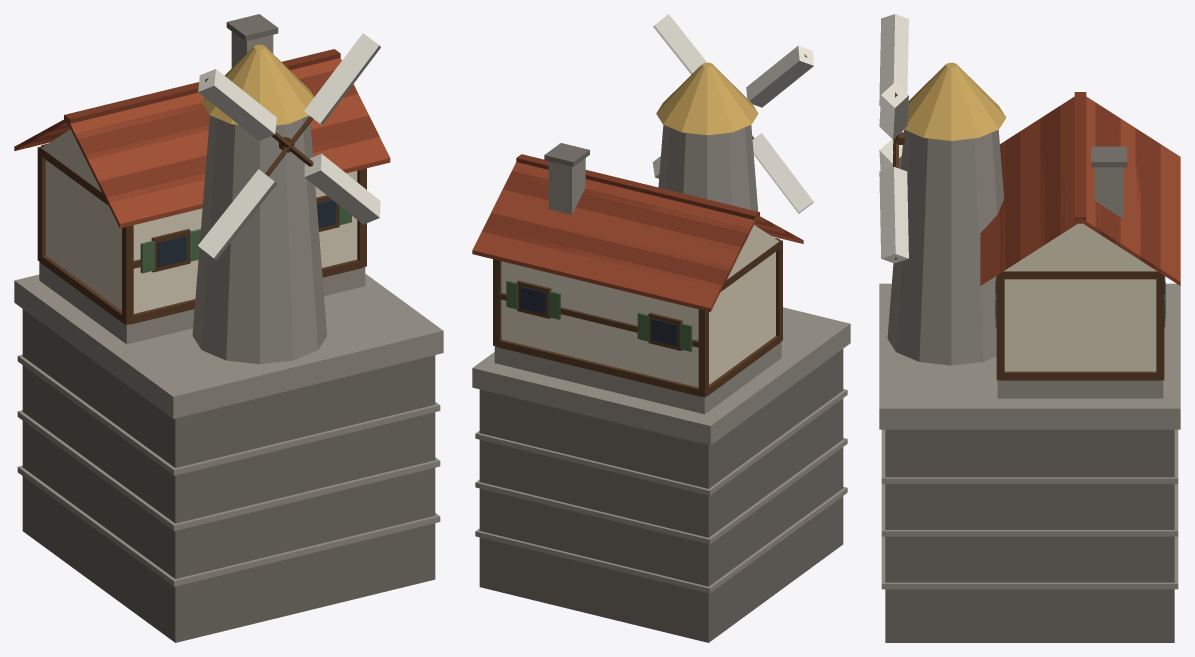
The model's file is mill.glb.
3 renders of one model, left to right at view 1: azimuth 30°, elevation 25°; view 2: azimuth 150°, elevation 25°; view 3: azimuth 270°, elevation 25°, orthographic. The views are drawn at different scales.
Parts seen in each view (by area): view 1: mill; view 2: mill; view 3: mill.
Boxes of the visible parts, x1,y1,x2,y2 form: mill: [14, 14, 443, 642]; mill: [472, 14, 850, 642]; mill: [879, 14, 1180, 642].
Size of the model in its own units: 5.1 by 10.08 by 5.19.
